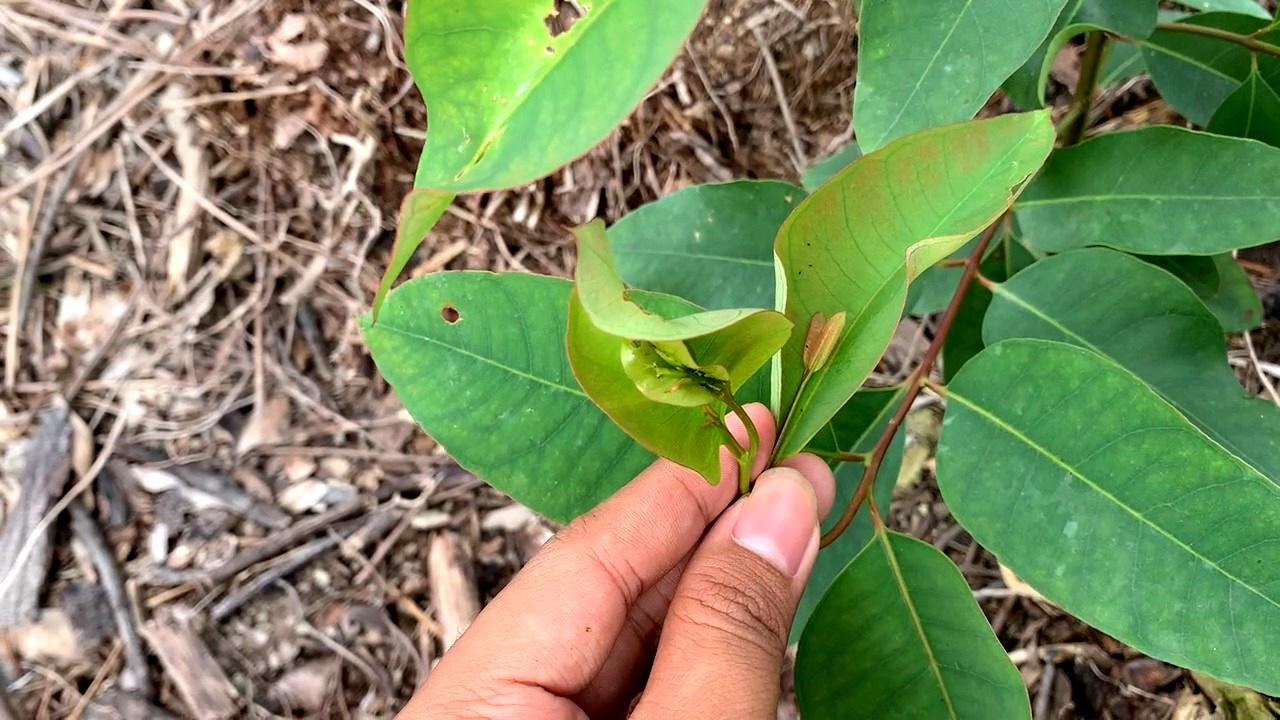Leaf Roller - Leaf: (569, 223, 790, 475)
